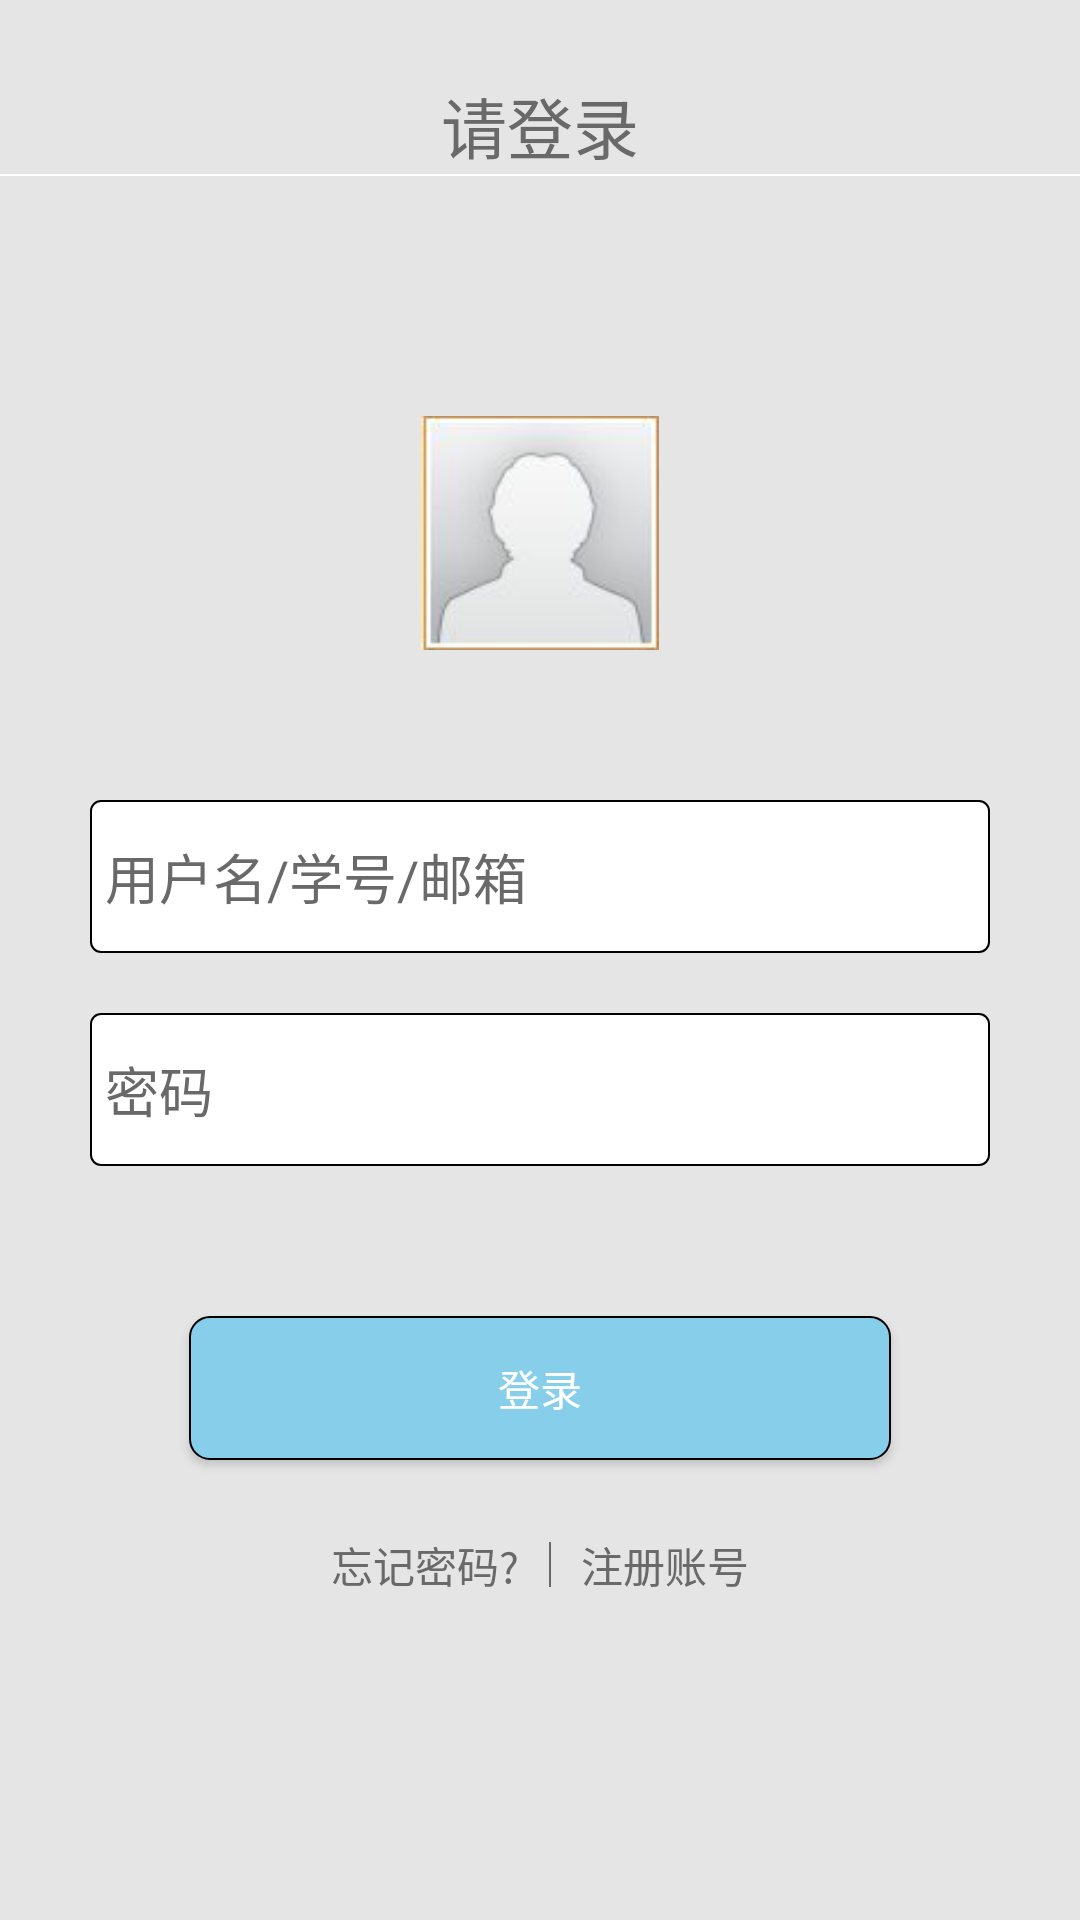

Screen size 1080×1920. Icon name, then its box in pixels as Rect(x1, y1, x2, y2):
mine photo: Rect(421, 416, 659, 650)
